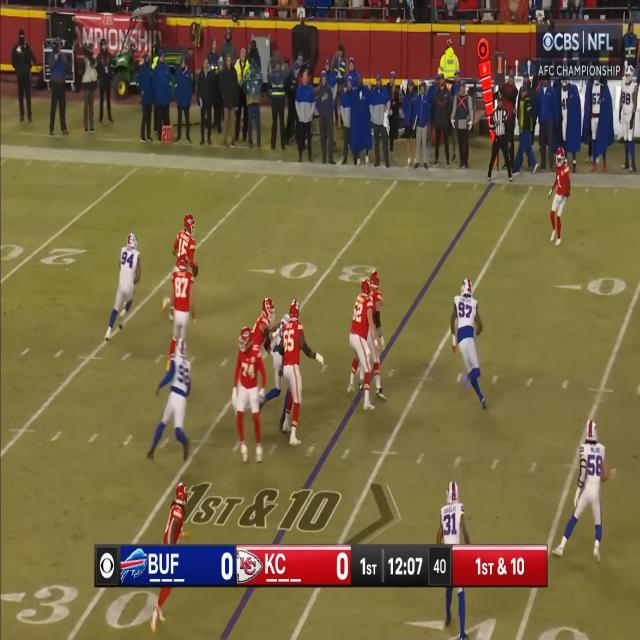Ball: (192, 260, 199, 279)
